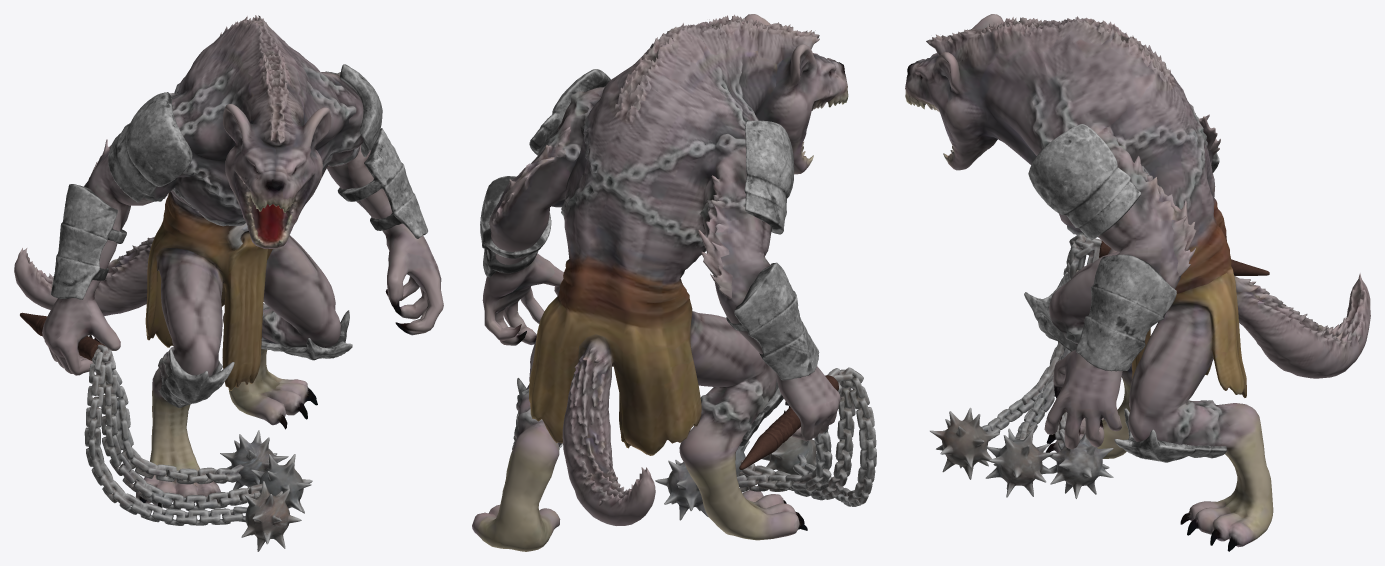
The model's file is MZ4250 - Yeenoghu.glb.
3 views of the same model, side by side, from view 1: azimuth 30°, elevation 25°; view 2: azimuth 150°, elevation 25°; view 3: azimuth 270°, elevation 25° (orthographic). The views are drawn at different scales.
Visible parts, largest first — view 1: Body.004; view 2: Body.004; view 3: Body.004.
Boxes of the visible parts, x1,y1,x2,y2 form: Body.004: (14, 15, 443, 551); Body.004: (472, 14, 876, 551); Body.004: (905, 14, 1370, 551).
Bounding box in the file's own units: 2.94 × 3.69 × 3.22.
Materials: 4 (4 with a texture image).
